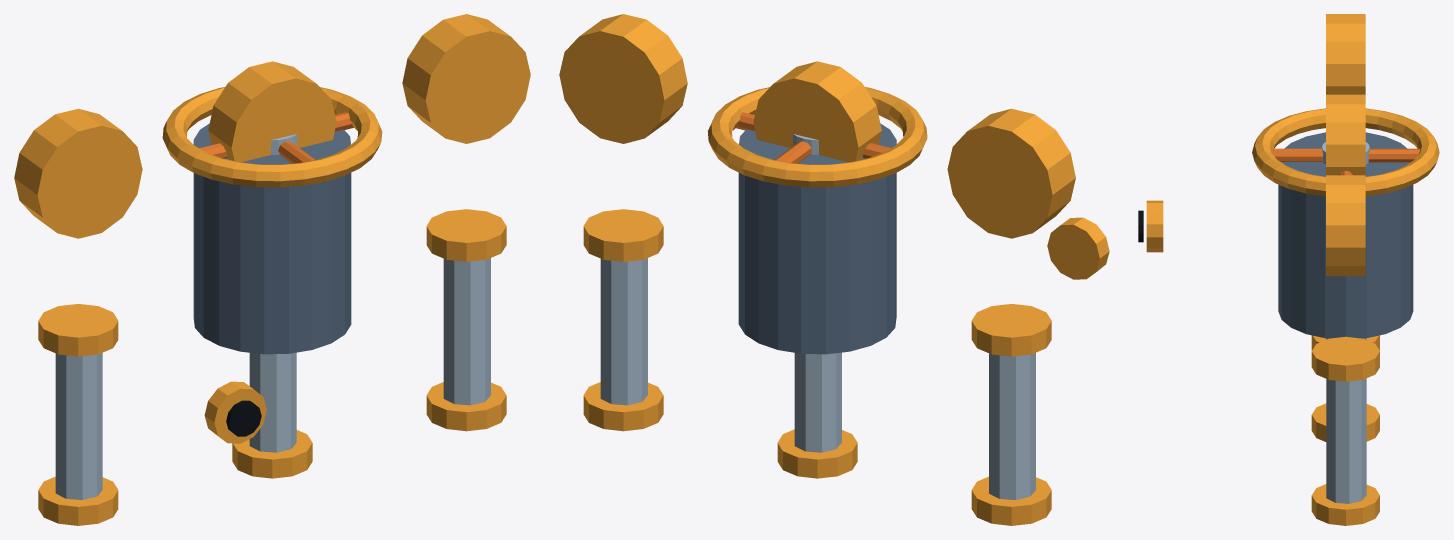
File: 70_L88_CabinPressureRegulator.fbx
3 views of the same model, side by side, from view 1: azimuth 30°, elevation 25°; view 2: azimuth 150°, elevation 25°; view 3: azimuth 270°, elevation 25° (orthographic). The views are drawn at different scales.
Visible parts, largest first — view 1: L87_CabinPressureRegulator_Part_0005, L87_CabinPressureRegulator_Part_0000, L87_CabinPressureRegulator_Part_0004, L87_CabinPressureRegulator_Part_0001, L87_CabinPressureRegulator_Part_0006, L87_CabinPressureRegulator_Part_0002, L87_CabinPressureRegulator_Part_0007; view 2: L87_CabinPressureRegulator_Part_0005, L87_CabinPressureRegulator_Part_0000, L87_CabinPressureRegulator_Part_0004, L87_CabinPressureRegulator_Part_0001, L87_CabinPressureRegulator_Part_0006, L87_CabinPressureRegulator_Part_0002; view 3: L87_CabinPressureRegulator_Part_0000, L87_CabinPressureRegulator_Part_0005, L87_CabinPressureRegulator_Part_0001, L87_CabinPressureRegulator_Part_0004, L87_CabinPressureRegulator_Part_0002, L87_CabinPressureRegulator_Part_0006.
Boxes of the visible parts, bbox=[...] form: L87_CabinPressureRegulator_Part_0005: bbox=[14, 14, 530, 525]; L87_CabinPressureRegulator_Part_0000: bbox=[193, 123, 351, 354]; L87_CabinPressureRegulator_Part_0004: bbox=[55, 258, 490, 499]; L87_CabinPressureRegulator_Part_0001: bbox=[162, 87, 382, 187]; L87_CabinPressureRegulator_Part_0006: bbox=[204, 381, 266, 443]; L87_CabinPressureRegulator_Part_0002: bbox=[199, 112, 353, 163]; L87_CabinPressureRegulator_Part_0007: bbox=[226, 400, 261, 436]; L87_CabinPressureRegulator_Part_0005: bbox=[559, 14, 1075, 525]; L87_CabinPressureRegulator_Part_0000: bbox=[738, 123, 896, 354]; L87_CabinPressureRegulator_Part_0004: bbox=[600, 258, 1035, 499]; L87_CabinPressureRegulator_Part_0001: bbox=[707, 87, 927, 187]; L87_CabinPressureRegulator_Part_0006: bbox=[1047, 217, 1109, 279]; L87_CabinPressureRegulator_Part_0002: bbox=[736, 112, 890, 163]; L87_CabinPressureRegulator_Part_0000: bbox=[1278, 132, 1413, 338]; L87_CabinPressureRegulator_Part_0005: bbox=[1311, 14, 1379, 525]; L87_CabinPressureRegulator_Part_0001: bbox=[1252, 108, 1439, 196]; L87_CabinPressureRegulator_Part_0004: bbox=[1326, 338, 1366, 503]; L87_CabinPressureRegulator_Part_0002: bbox=[1271, 148, 1420, 175]; L87_CabinPressureRegulator_Part_0006: bbox=[1146, 200, 1163, 252].
Size of the model in its own units: 122 by 91.92 by 75.8.
